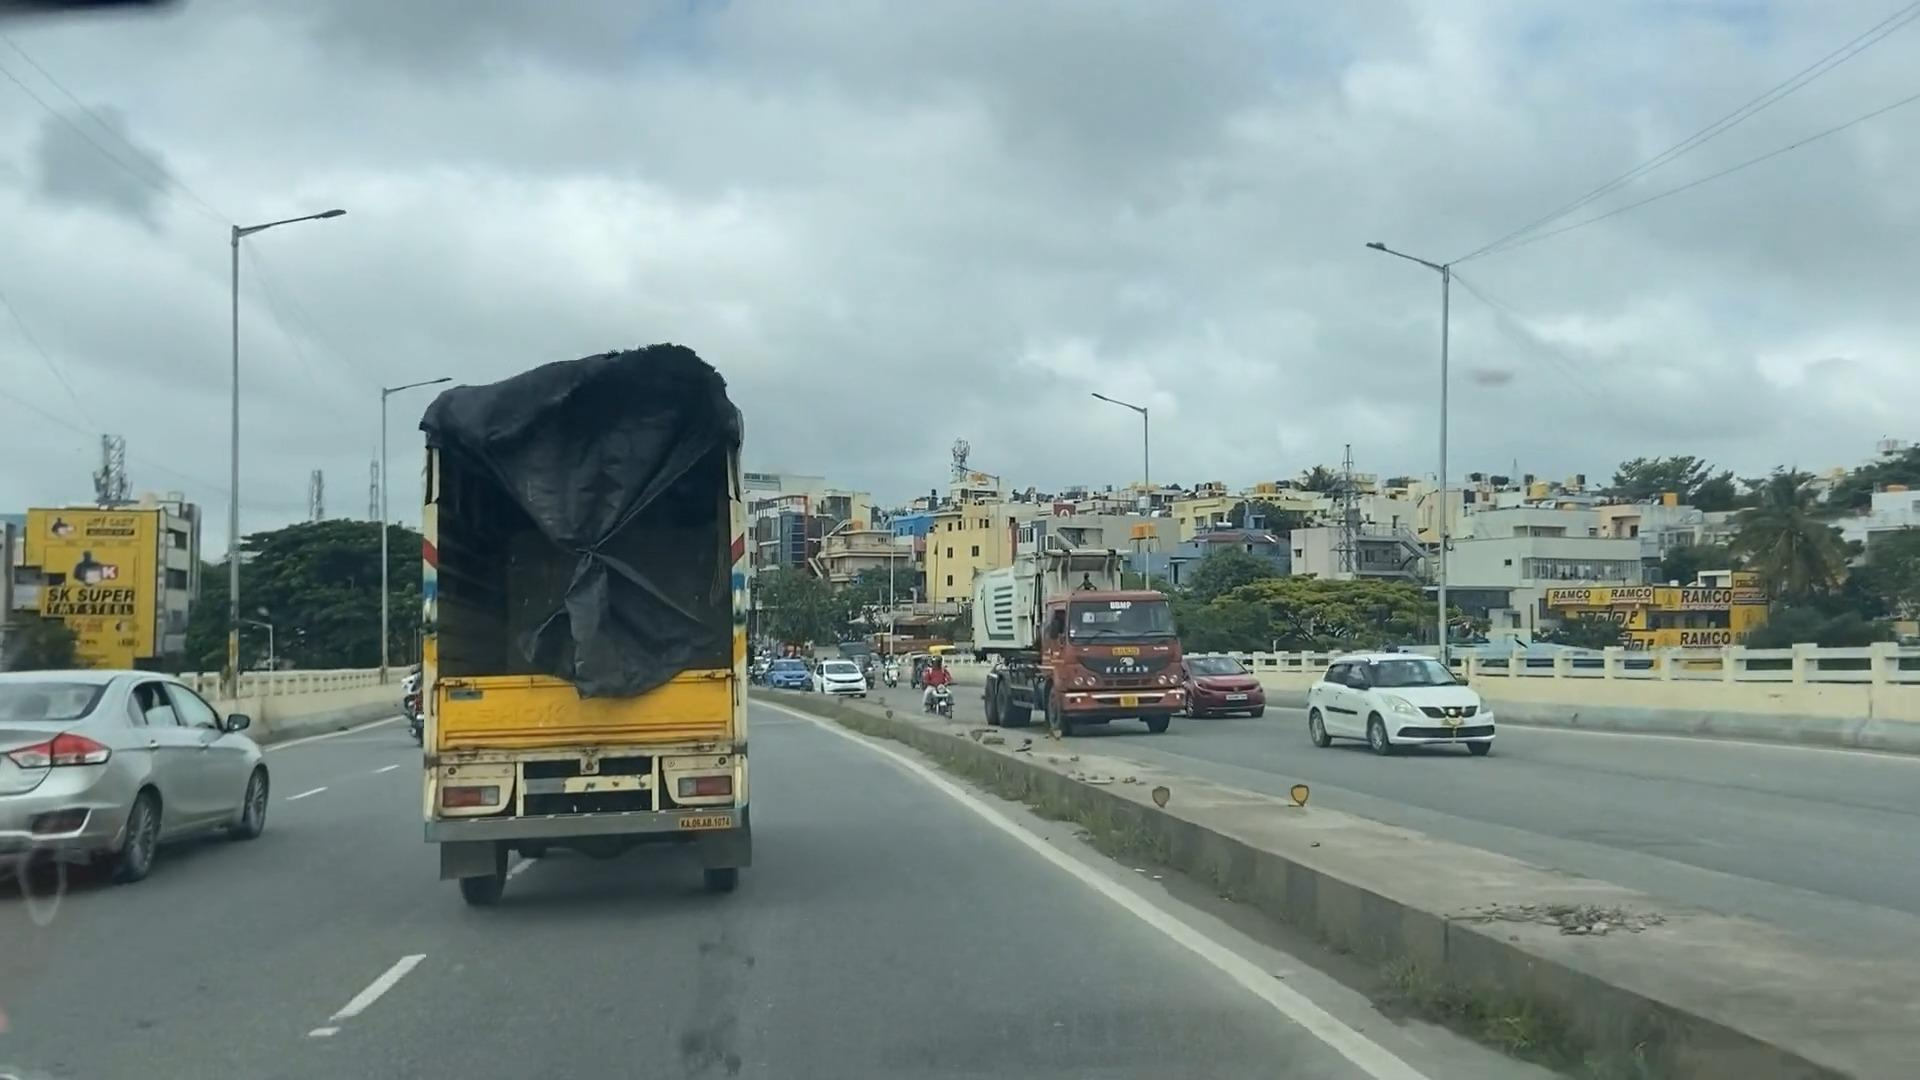HMV: (409, 331, 762, 913), (960, 550, 1147, 724)
